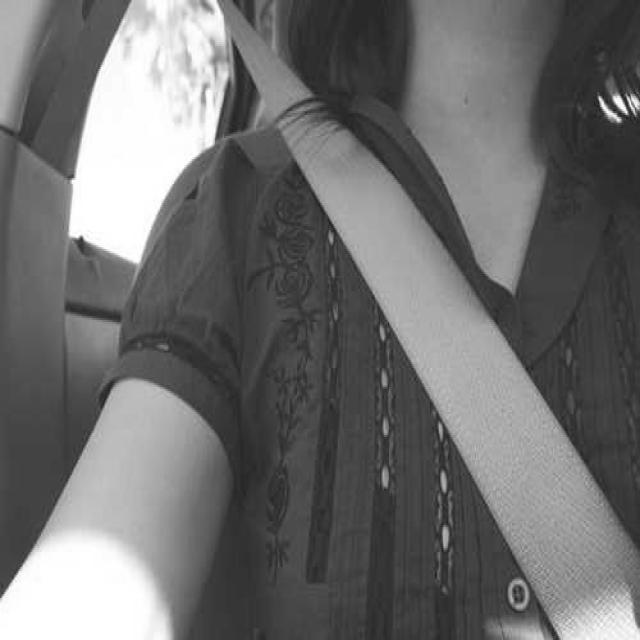Seatbelt: (213, 4, 618, 616)
